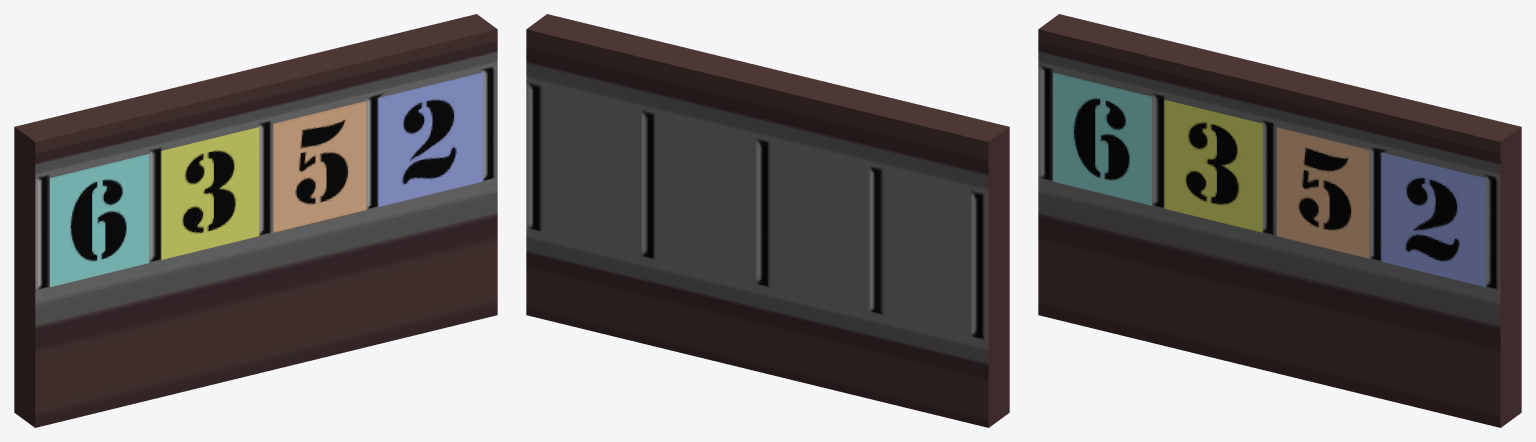
Rendered from Roomba_Keycard.fbx.
3 views of the same model, side by side, from view 1: azimuth 30°, elevation 25°; view 2: azimuth 150°, elevation 25°; view 3: azimuth 330°, elevation 25° (orthographic).
Parts seen in each view (by area): view 1: Keycard; view 2: Keycard; view 3: Keycard.
Boxes of the visible parts, x1,y1,x2,y2 form: Keycard: (14,14,497,427); Keycard: (526,14,1009,427); Keycard: (1038,14,1521,427).
Size of the model in its own units: 19.86 by 11.73 by 1.55.
